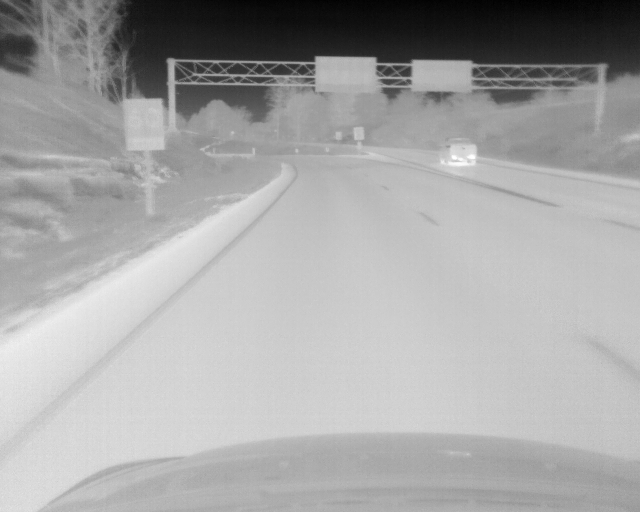car: (439, 135, 478, 166)
